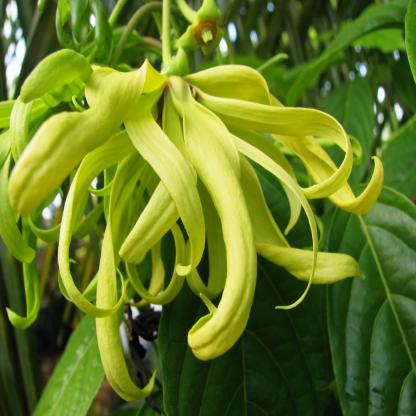Kenanga: (52, 43, 316, 292)
